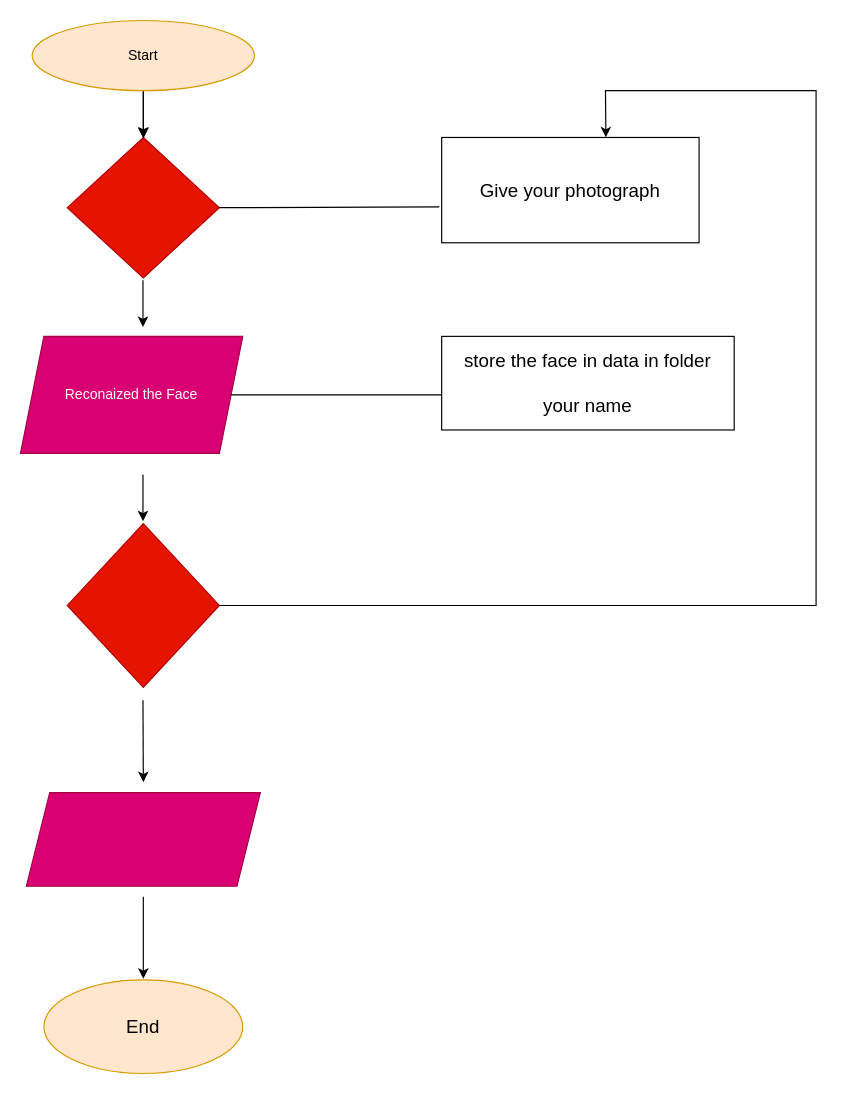
Image size: 846x1094. Some labels were removed from this diagram. Each missing label, with the centre of its shape:
"Face Reconaized" belongs at point (142, 604).
"New user ?" belongs at point (142, 207).
"Store csv file" belongs at point (142, 839).
